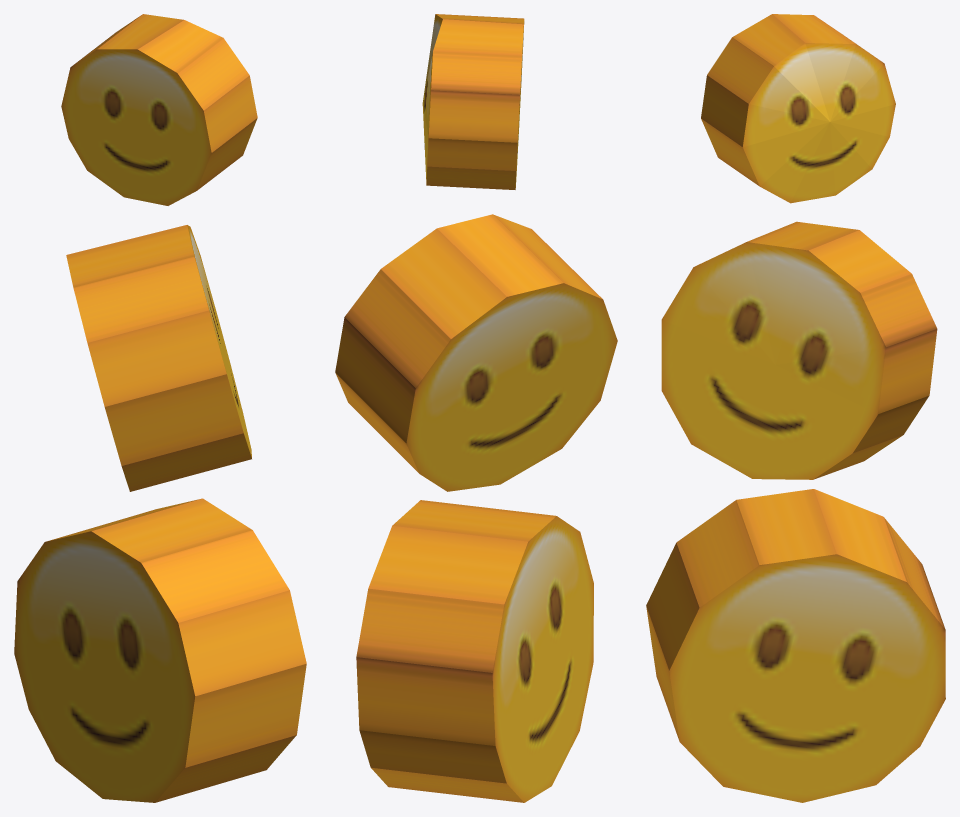
The model's file is 076_Emoji01.fbx.
3 renders of one model, left to right at view 1: azimuth 30°, elevation 25°; view 2: azimuth 150°, elevation 25°; view 3: azimuth 270°, elevation 25°, orthographic.
Visible parts, largest first — view 1: Plane.009; view 2: Plane.009; view 3: Plane.009.
Part boxes in pixels (<box>): Plane.009: <box>14,14,306,802</box>; Plane.009: <box>335,14,617,802</box>; Plane.009: <box>646,14,945,802</box>.
Size of the model in its own units: 27.16 by 98.52 by 35.85.
